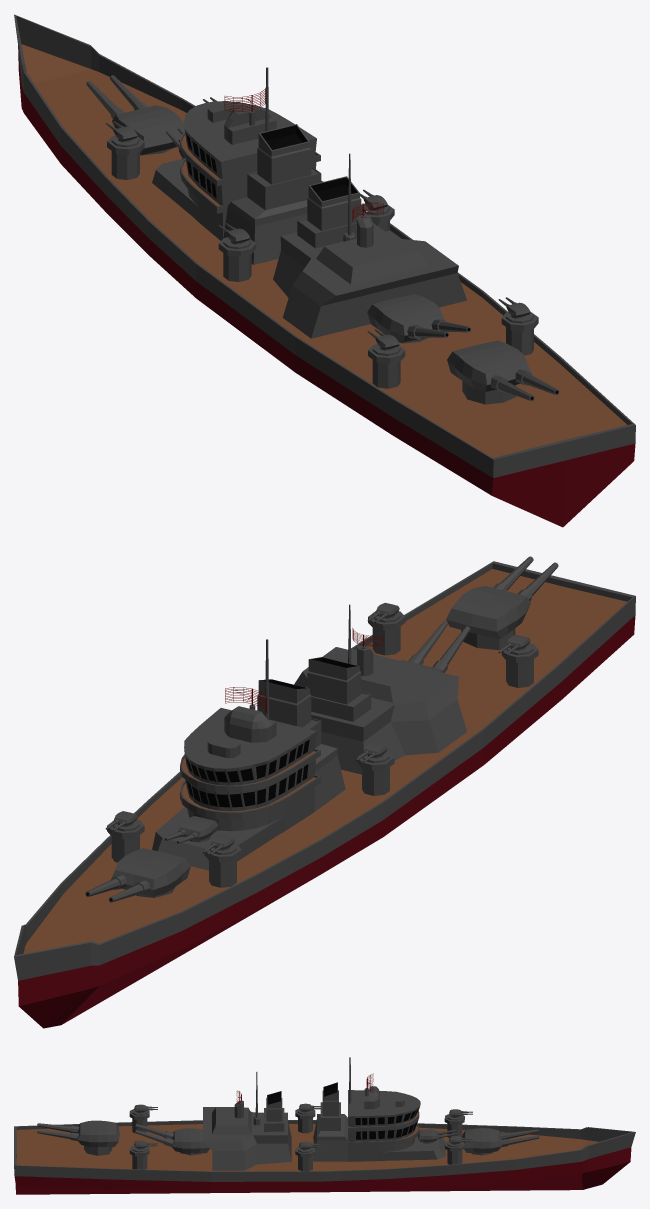
File: heavy_cruiser.fbx
3 views of the same model, one above another, from view 1: azimuth 30°, elevation 25°; view 2: azimuth 150°, elevation 25°; view 3: azimuth 270°, elevation 25° (orthographic). The views are drawn at different scales.
Visible parts, largest first — view 1: Plane, działko1, działko3, działko4, działko7; view 2: Plane, działko1, działko4, działko3, działko5, działko7, działko6; view 3: Plane, działko1, działko4, działko3, działko5, działko6, działko7, działko2.
Part boxes in pixels (left/top/right/bottom): Plane: left=14, top=14, right=635, bottom=527; działko1: left=447, top=340, right=559, bottom=404; działko3: left=367, top=294, right=471, bottom=343; działko4: left=86, top=75, right=184, bottom=155; działko7: left=367, top=297, right=530, bottom=350; Plane: left=14, top=561, right=635, bottom=1028; działko1: left=446, top=556, right=558, bottom=650; działko4: left=85, top=848, right=190, bottom=902; działko3: left=400, top=620, right=470, bottom=673; działko5: left=165, top=816, right=218, bottom=843; działko7: left=367, top=602, right=530, bottom=654; działko6: left=105, top=811, right=234, bottom=854; Plane: left=14, top=1057, right=635, bottom=1194; działko1: left=37, top=1120, right=119, bottom=1155; działko4: left=462, top=1128, right=539, bottom=1155; działko3: left=134, top=1124, right=209, bottom=1155; działko5: left=418, top=1129, right=456, bottom=1143; działko6: left=449, top=1109, right=472, bottom=1144; działko7: left=134, top=1104, right=157, bottom=1149; działko2: left=299, top=1103, right=322, bottom=1150.
Size of the model in its own units: 98.96 by 122 by 501.
